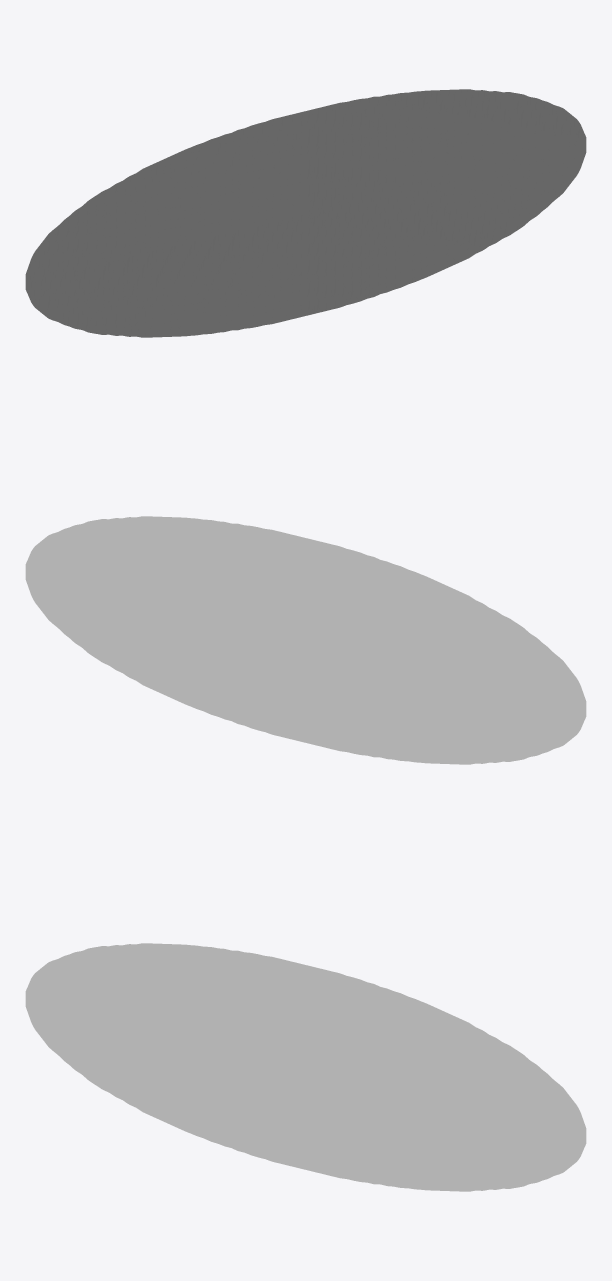
3 views of the same model, one above another, from view 1: azimuth 30°, elevation 25°; view 2: azimuth 150°, elevation 25°; view 3: azimuth 330°, elevation 25° (orthographic).
Visible parts, largest first — view 1: Joint_0_Object_0; view 2: Joint_0_Object_0; view 3: Joint_0_Object_0.
Boxes of the visible parts, <box> form: Joint_0_Object_0: <box>25,89,586,337</box>; Joint_0_Object_0: <box>25,516,586,764</box>; Joint_0_Object_0: <box>25,943,586,1191</box>.
Size of the model in its own units: 46.44 by 19.44 by 0.
Materials: 1 (1 with a texture image).
